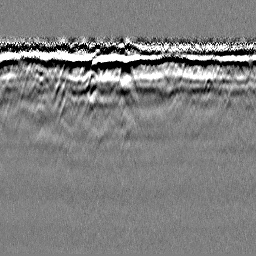cavity: (113, 65, 140, 101)
